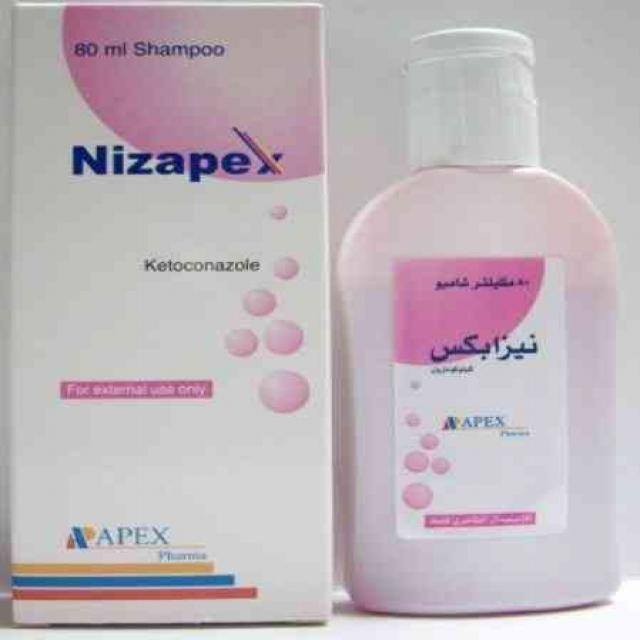drug-name: (68, 125, 286, 184)
